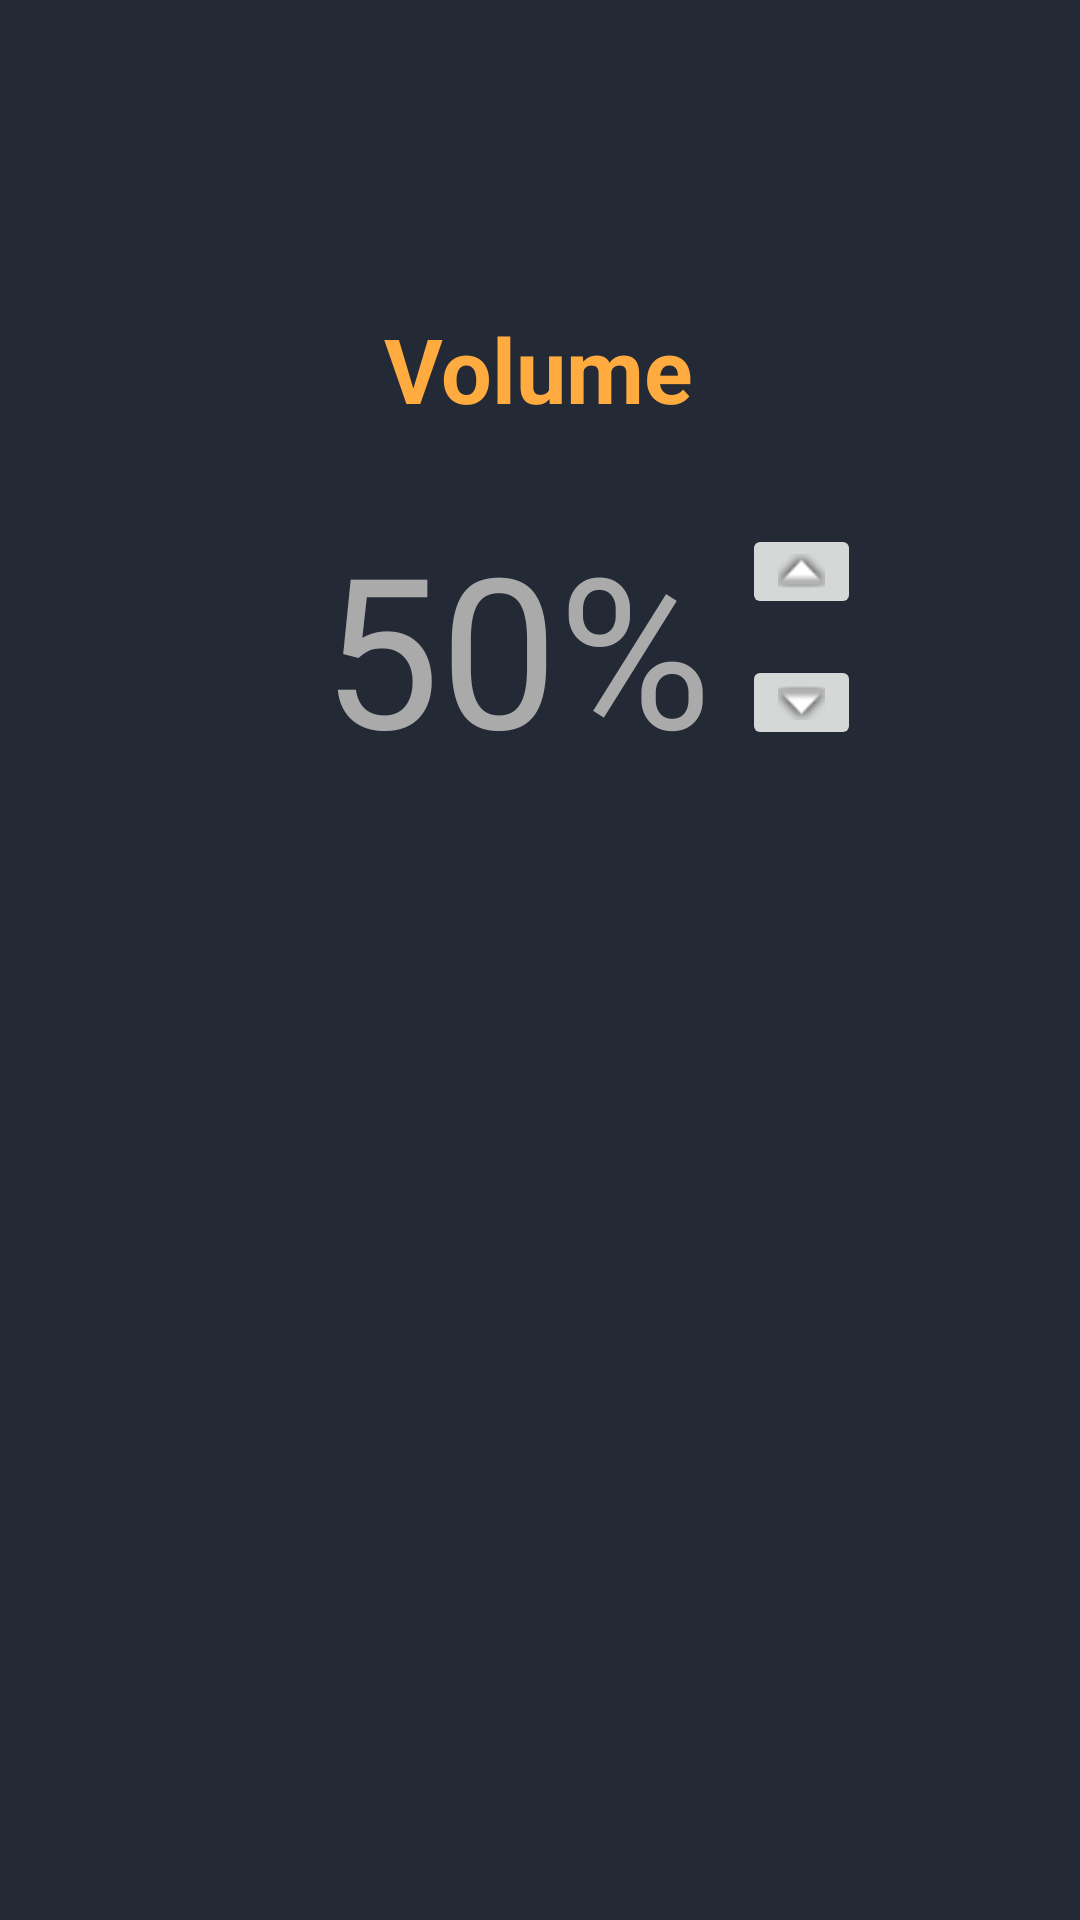

Point at icon controls on the screen. Image size 1080×1920, points as point (x, y).
arrow down float: point (801, 702)
arrow up float: point (801, 571)
